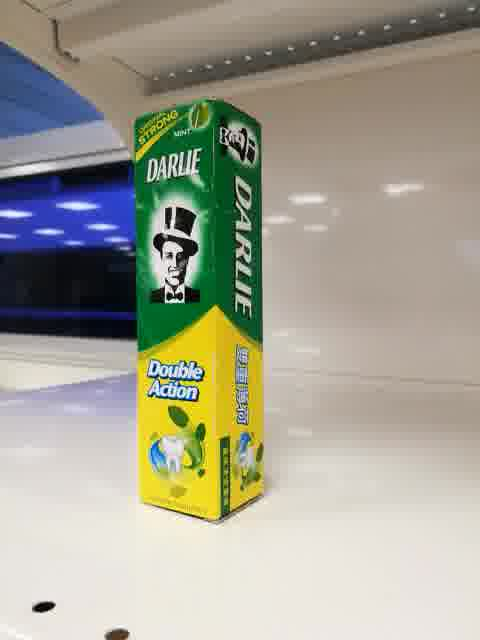toothpaste: (134, 98, 266, 523)
